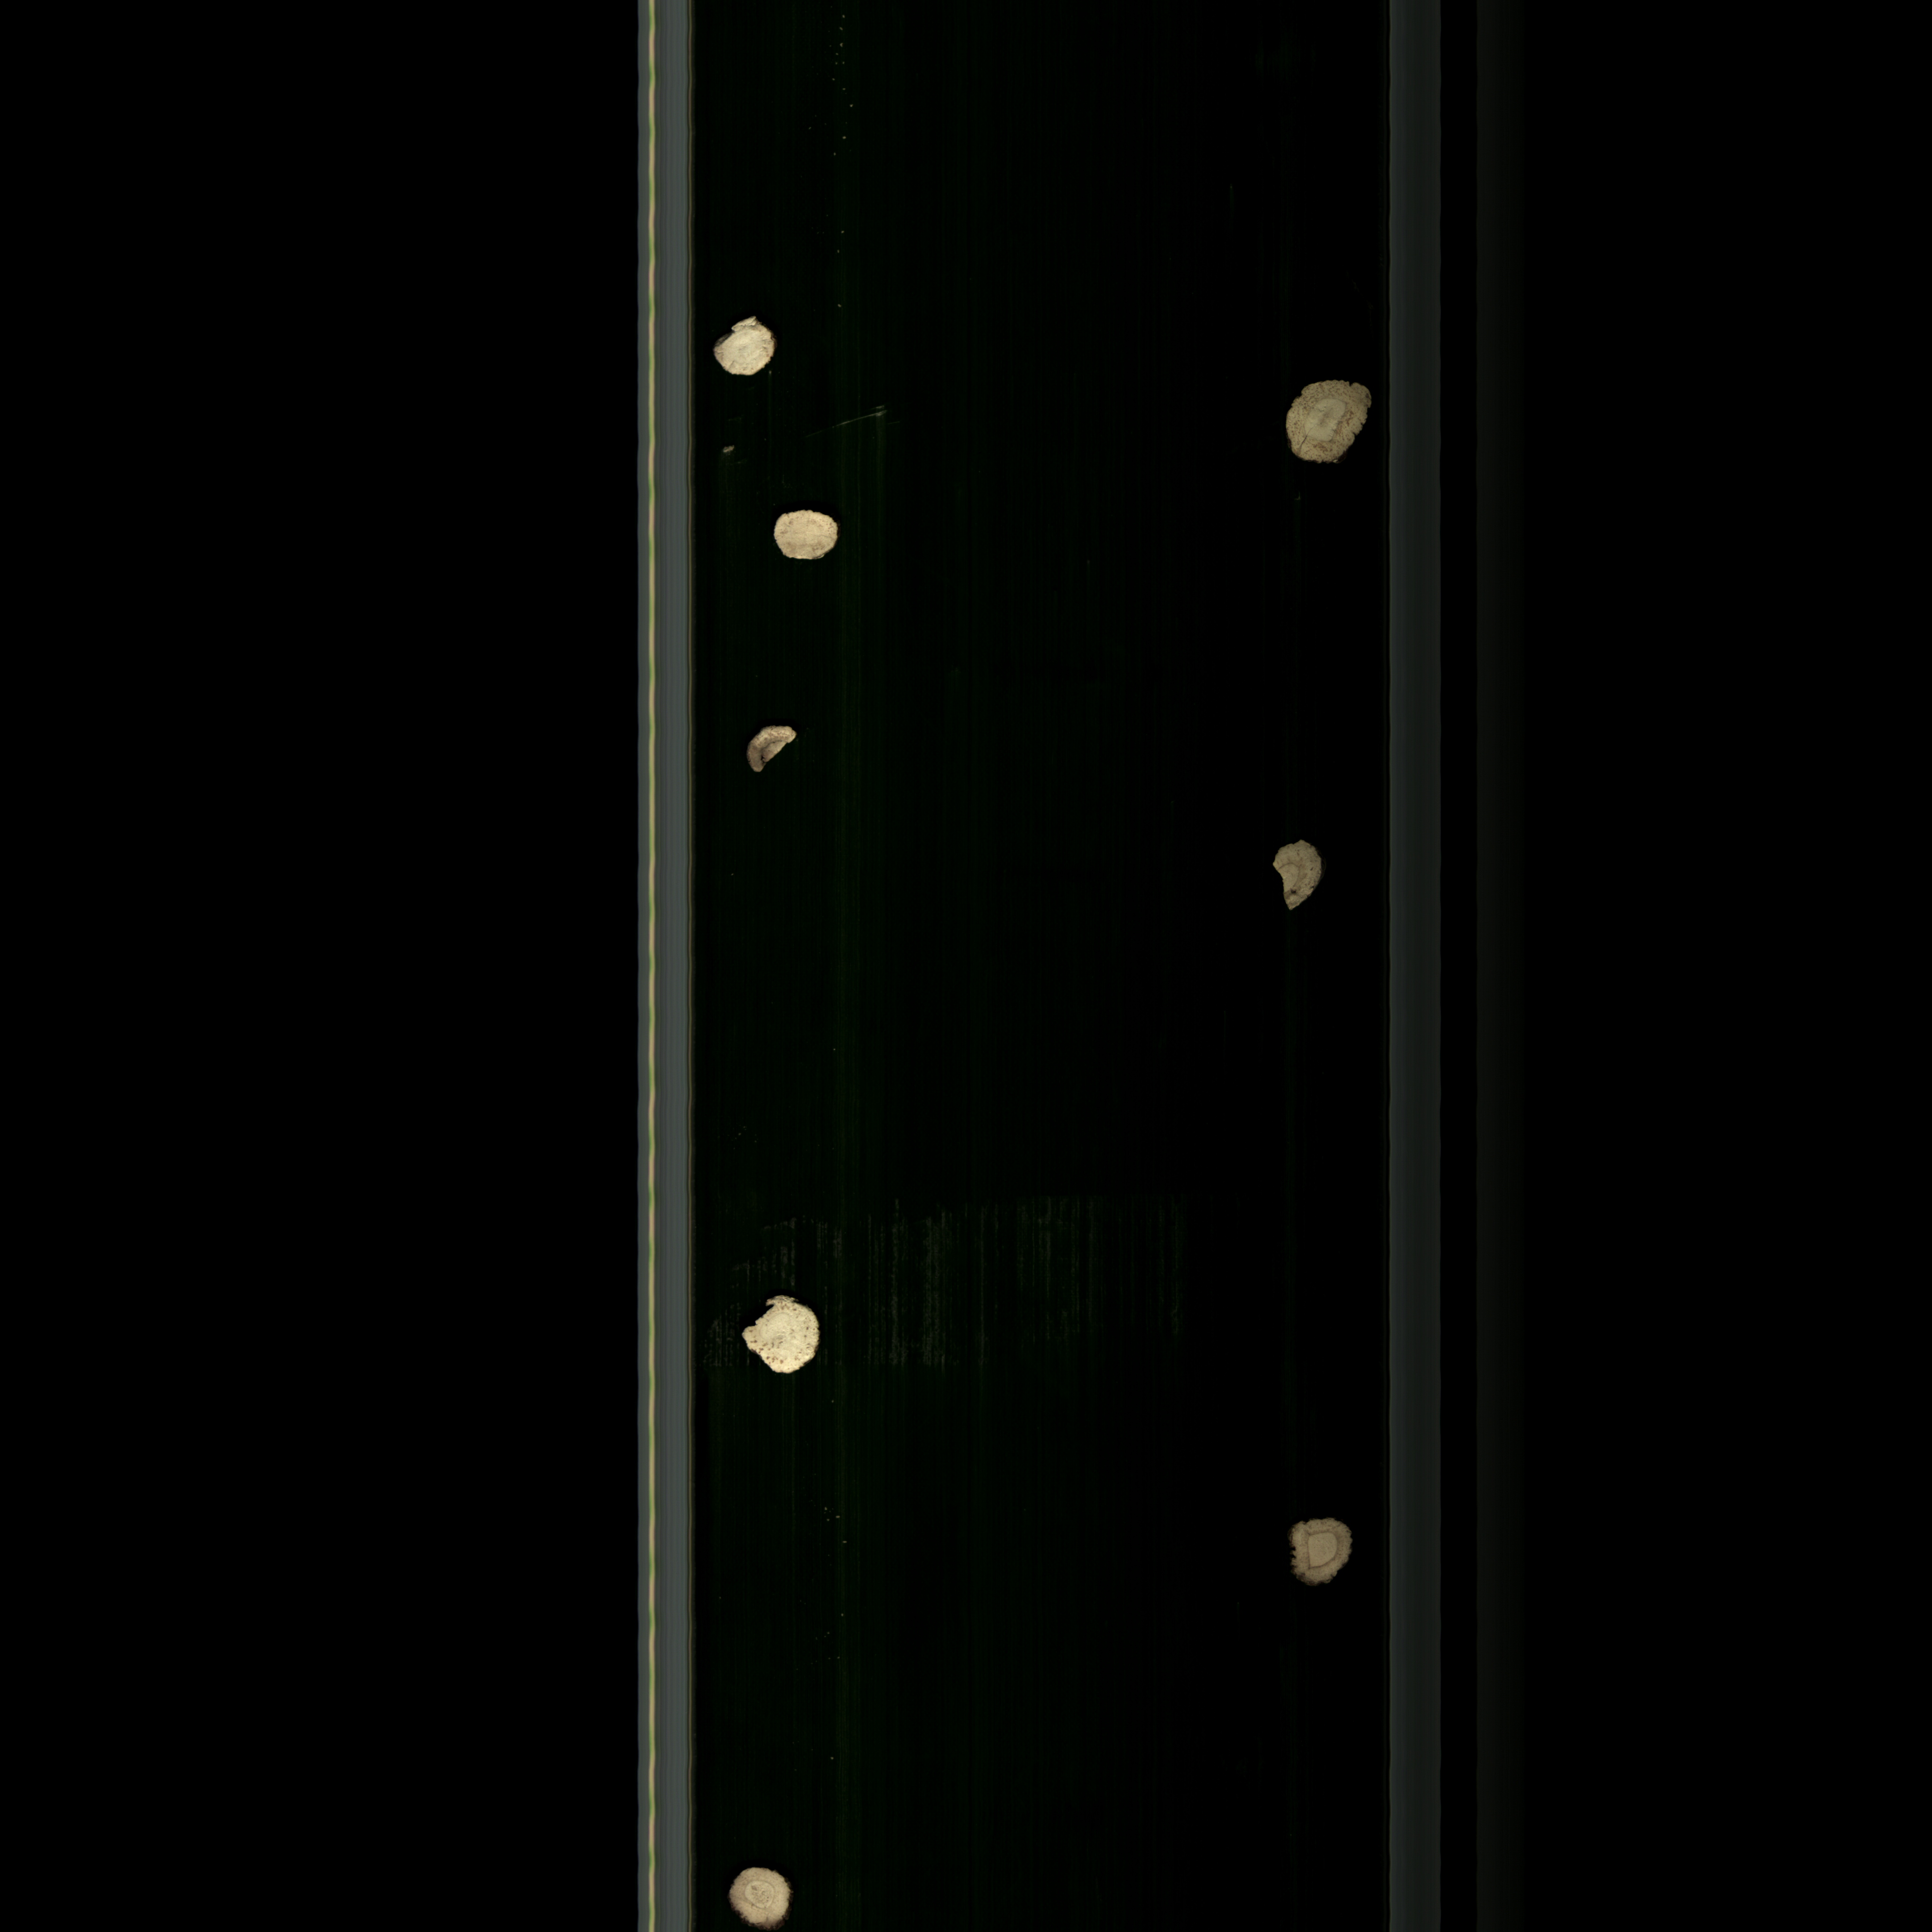debris: (738, 1283, 830, 1389), (708, 301, 786, 384)
distortion: (763, 510, 855, 563)
moldy: (1270, 373, 1376, 476), (1279, 1499, 1359, 1594), (1261, 830, 1325, 915), (741, 715, 821, 775)
